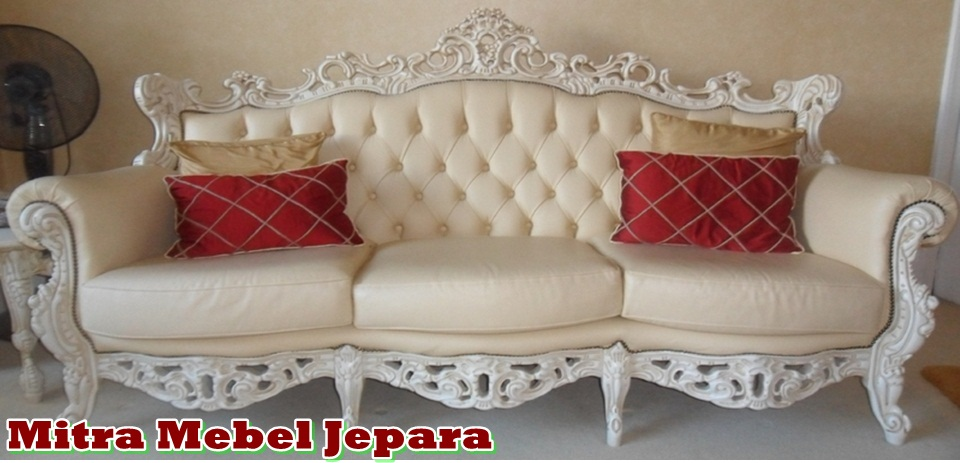Carving Chair: (43, 55, 925, 455)
